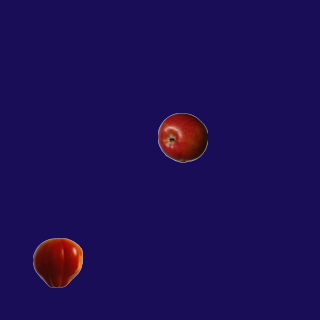Apple Braeburn: (157, 112, 207, 162)
Tomato 1: (32, 237, 82, 287)
